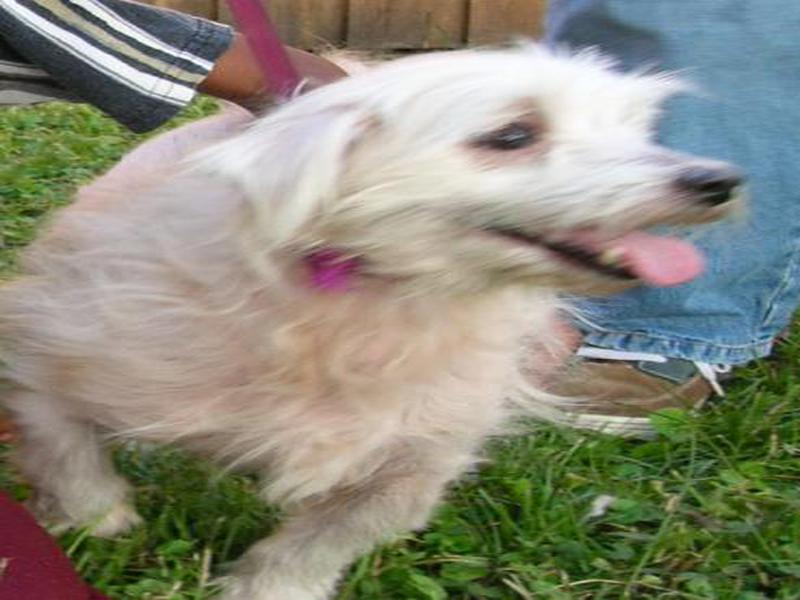dog: (54, 49, 749, 546)
